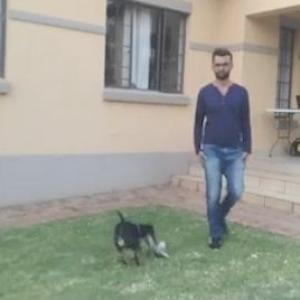follow: (190, 47, 255, 247)
